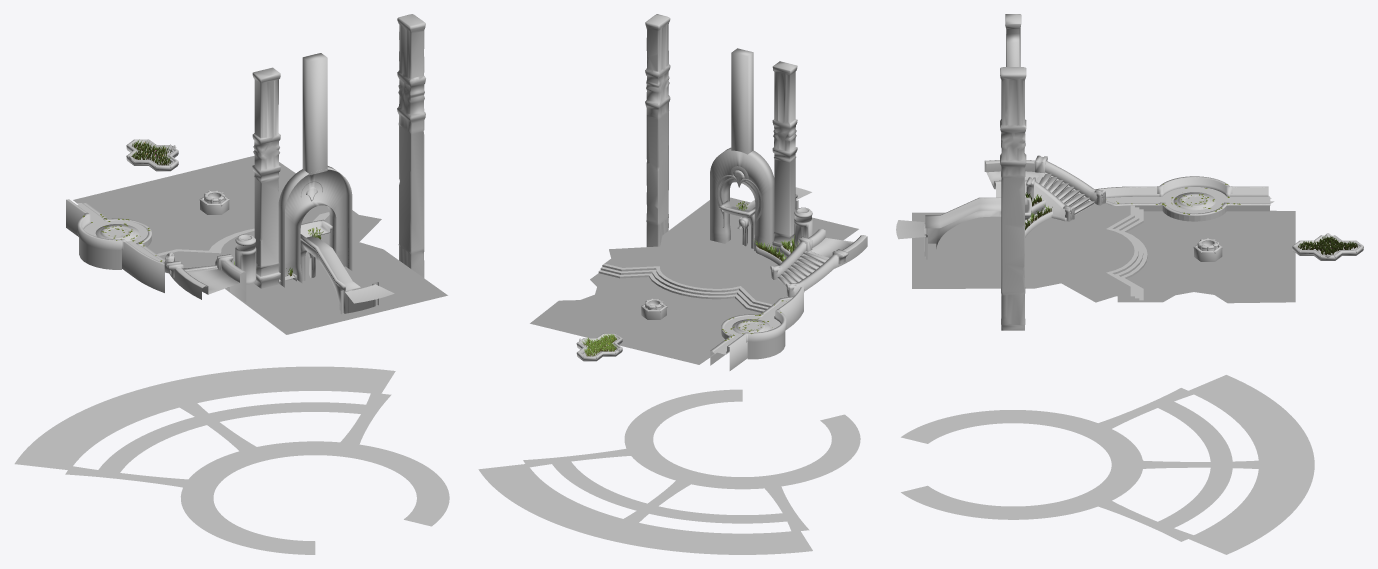
3 renders of one model, left to right at view 1: azimuth 30°, elevation 25°; view 2: azimuth 150°, elevation 25°; view 3: azimuth 270°, elevation 25°, orthographic. The views are drawn at different scales.
Parts seen in each view (by area): view 1: EG_ShadowCastingPlateform, ground1, ground2, EG_BackgroundBalcony_Pillar, EG_Pillar, EG_Gate, EG_Gate_Pillar, EG_Courtyard_Ledges, EG_Ring_Segment2, EG_Gate_Bridge, EG_Pool, EG_Ring_Segment_End (+5 smaller); view 2: EG_ShadowCastingPlateform, ground1, ground2, EG_BackgroundBalcony_Pillar, EG_Gate, EG_Pillar, EG_Gate_Pillar, steps2, EG_Courtyard_Ledges, EG_Ring_Segment_Stairs, EG_Ring_Segment2, EG_Courtyard_Ledges_Tree (+4 smaller); view 3: EG_ShadowCastingPlateform, ground2, ground1, EG_BackgroundBalcony_Pillar, EG_Ring_Segment_Stairs, EG_Courtyard_Ledges, EG_Gate_Bridge, EG_Courtyard_Water, steps2, EG_Courtyard_Ledges_Tree, EG_Pool, EG_Ring_Segment2 (+3 smaller).
Part boxes in pixels (<box>): EG_ShadowCastingPlateform: <box>14,366,449,554</box>; ground1: <box>73,155,329,253</box>; ground2: <box>160,210,447,334</box>; EG_BackgroundBalcony_Pillar: <box>397,14,425,277</box>; EG_Pillar: <box>252,67,280,288</box>; EG_Gate: <box>278,166,352,287</box>; EG_Gate_Pillar: <box>302,53,327,175</box>; EG_Courtyard_Ledges: <box>66,199,165,292</box>; EG_Ring_Segment2: <box>172,260,246,302</box>; EG_Gate_Bridge: <box>300,234,360,313</box>; EG_Pool: <box>126,139,178,171</box>; EG_Ring_Segment_End: <box>340,282,394,313</box>; EG_ShadowCastingPlateform: <box>478,389,860,554</box>; ground1: <box>530,273,761,364</box>; ground2: <box>604,197,858,304</box>; EG_BackgroundBalcony_Pillar: <box>645,14,670,246</box>; EG_Gate: <box>710,147,774,251</box>; EG_Pillar: <box>772,61,797,252</box>; EG_Gate_Pillar: <box>731,48,753,154</box>; steps2: <box>598,263,772,312</box>; EG_Courtyard_Ledges: <box>710,286,803,370</box>; EG_Ring_Segment_Stairs: <box>770,242,841,297</box>; EG_Ring_Segment2: <box>808,229,867,264</box>; EG_Courtyard_Ledges_Tree: <box>721,309,786,342</box>; EG_ShadowCastingPlateform: <box>901,375,1314,554</box>; ground2: <box>912,203,1134,302</box>; ground1: <box>1117,210,1295,303</box>; EG_BackgroundBalcony_Pillar: <box>1000,67,1026,330</box>; EG_Ring_Segment_Stairs: <box>1034,161,1105,221</box>; EG_Courtyard_Ledges: <box>1096,186,1270,221</box>; EG_Gate_Bridge: <box>925,197,1001,248</box>; EG_Courtyard_Water: <box>1106,187,1274,213</box>; steps2: <box>1106,205,1147,300</box>; EG_Courtyard_Ledges_Tree: <box>1157,176,1232,215</box>; EG_Pool: <box>1292,233,1363,260</box>; EG_Ring_Segment2: <box>984,160,1039,197</box>.
Bounding box in the file's own units: 1970 × 2242 × 2161.
